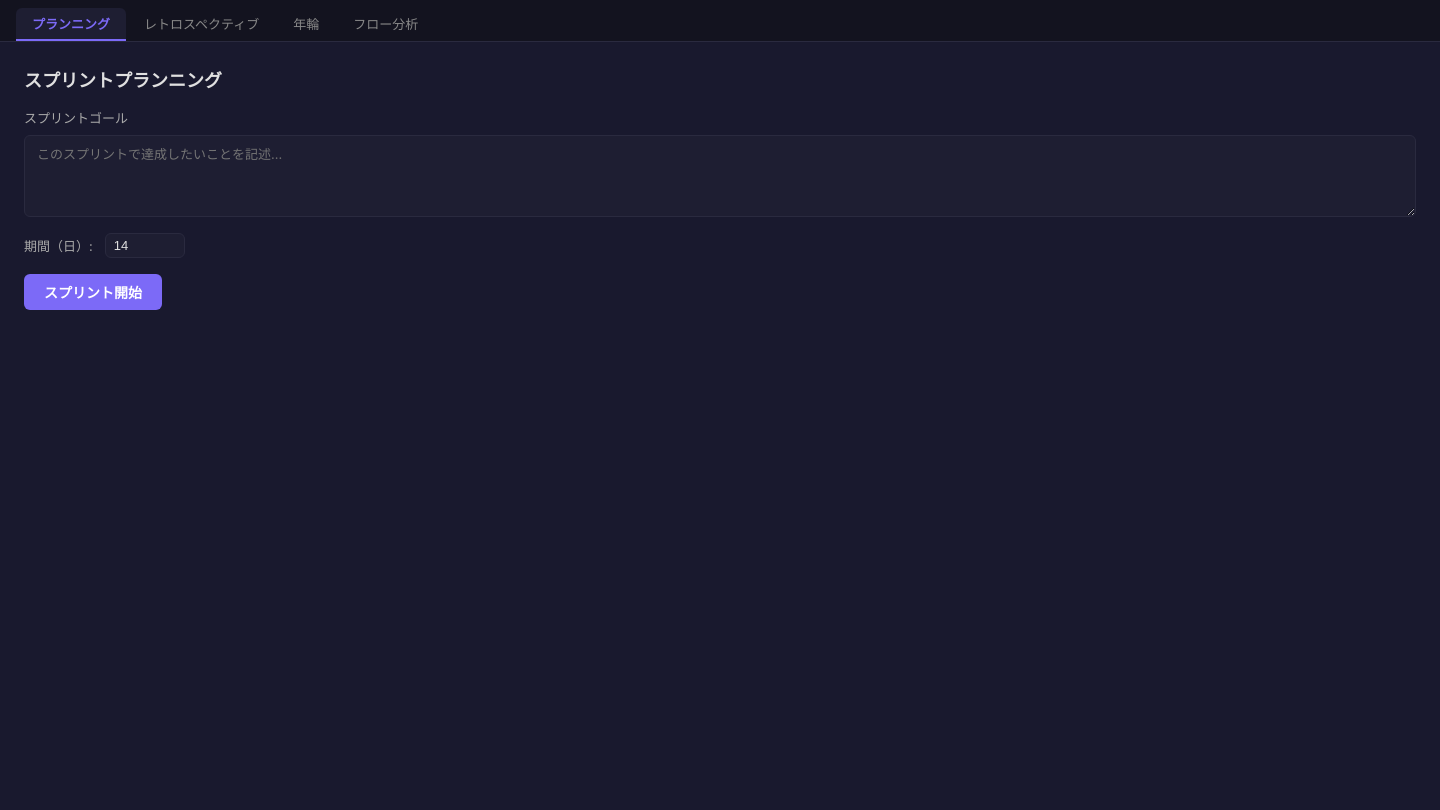
SprintScreen › フロー分析 タブに切り替えできる
Click the button "フロー分析" at [386, 24], box 337,8 -> 434,41
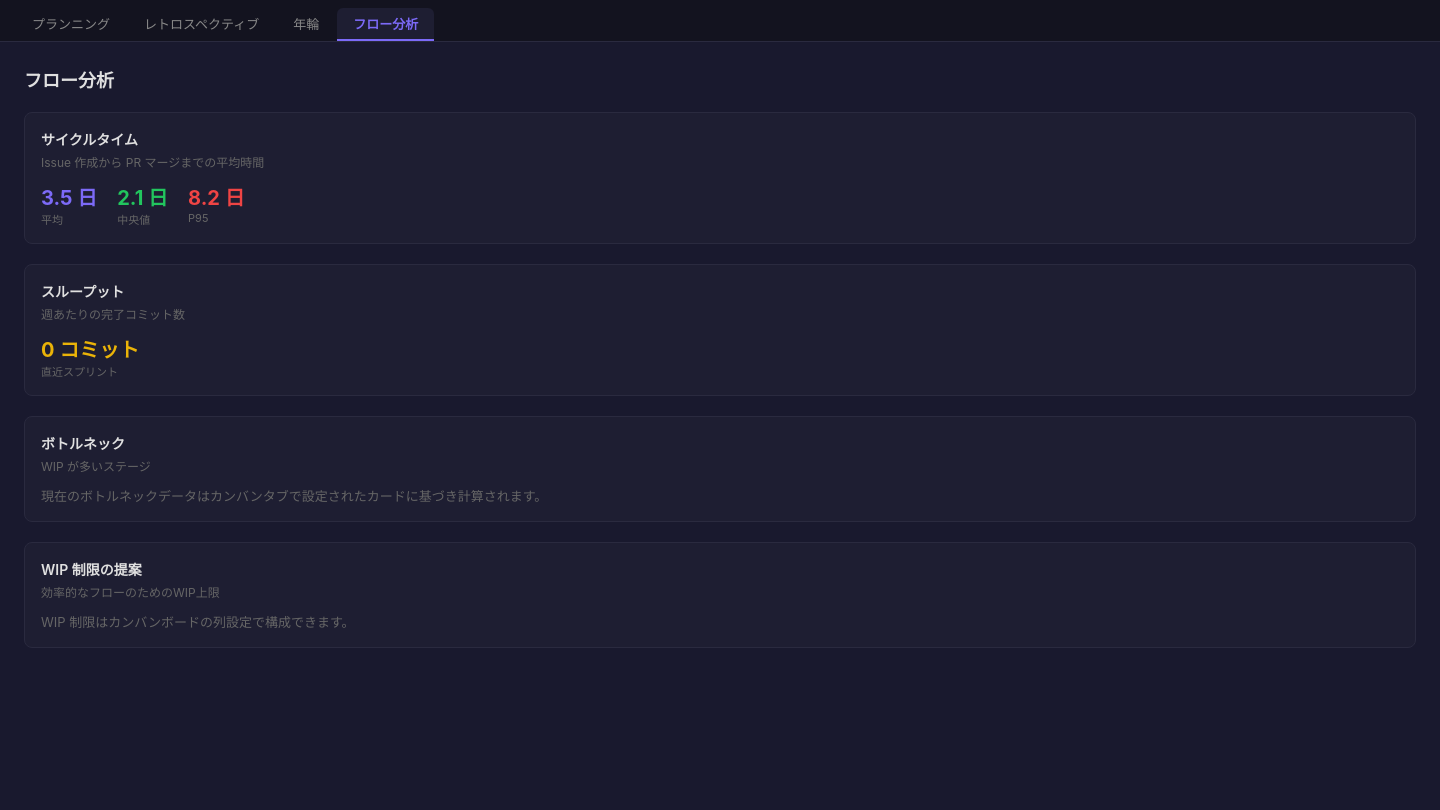
Result: the heading "サイクルタイム" is shown at 41,131 -> 138,148
Result: the heading "スループット" is shown at 41,283 -> 124,300
Result: the heading "ボトルネック" is shown at 41,435 -> 125,452
